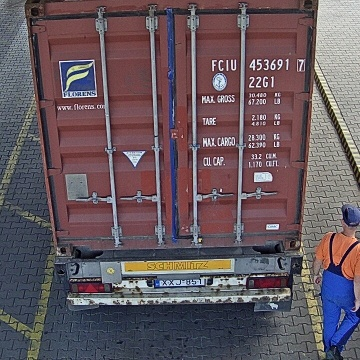serial_id: (212, 58, 305, 70)
